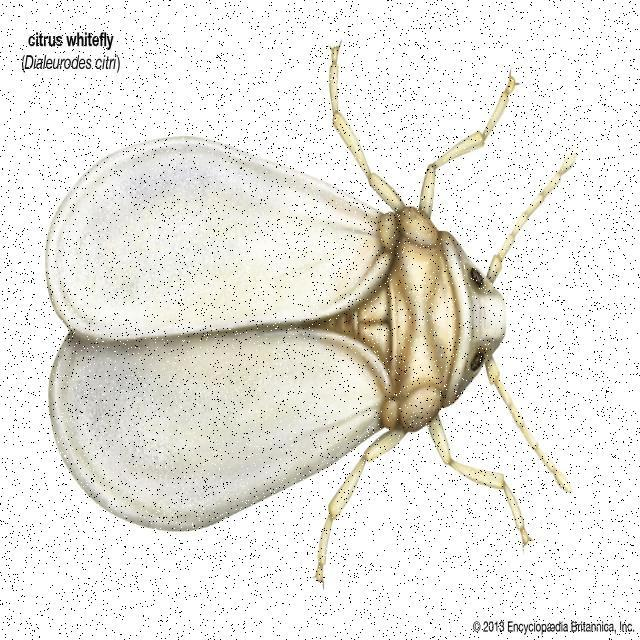Whiteflies: (16, 33, 620, 602)
